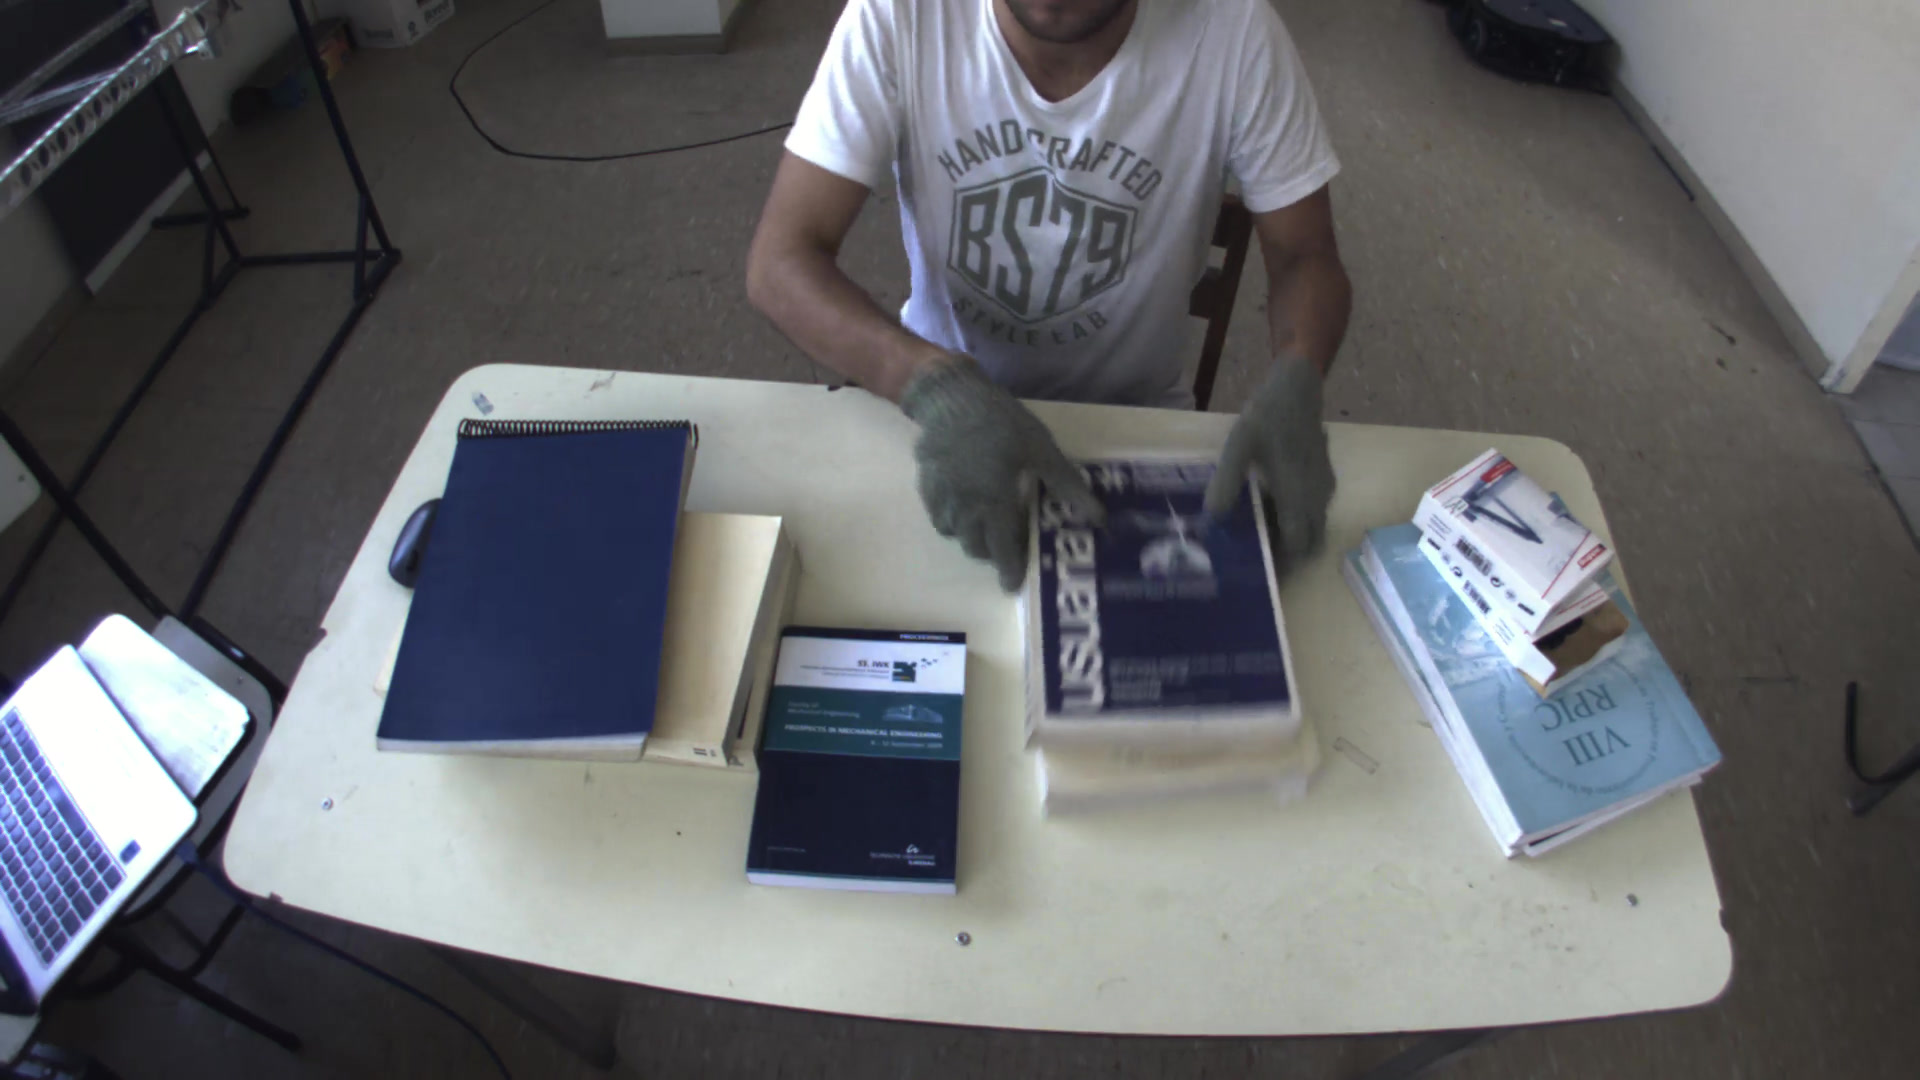hand: (884, 348, 1097, 582), (1207, 352, 1349, 556)
